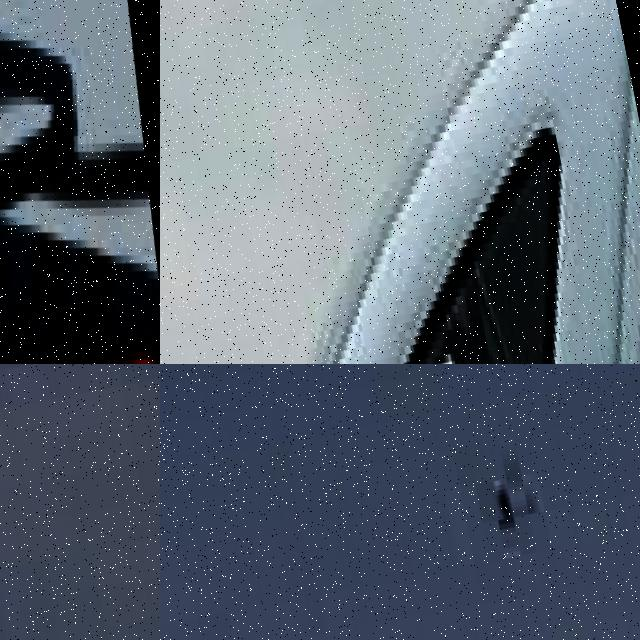drone: (0, 0, 160, 364)
